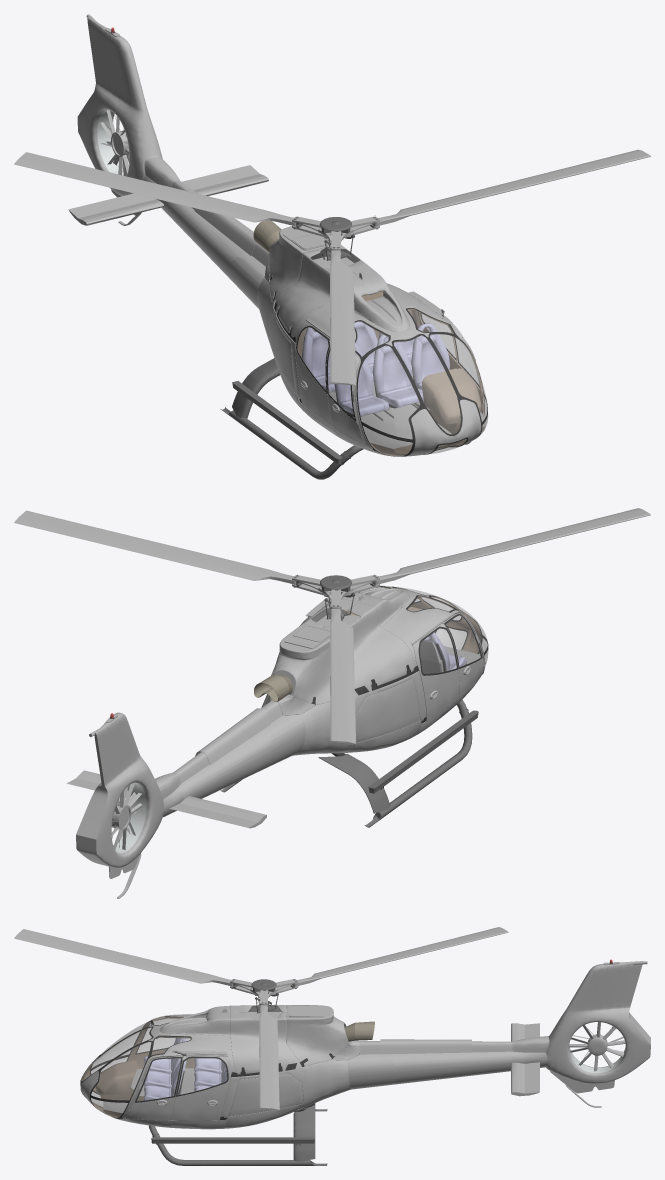
3 renders of one model, top to bottom at view 1: azimuth 30°, elevation 25°; view 2: azimuth 150°, elevation 25°; view 3: azimuth 270°, elevation 25°, orthographic. The views are drawn at different scales.
Visible parts, largest first — view 1: 3DSMeshMatrix (×5); view 2: 3DSMeshMatrix (×6); view 3: 3DSMeshMatrix (×7).
Boxes of the visible parts, left/top/right/bottom form: 3DSMeshMatrix (×5): left=14, top=14, right=650, bottom=479; 3DSMeshMatrix (×6): left=14, top=508, right=650, bottom=898; 3DSMeshMatrix (×7): left=14, top=927, right=650, bottom=1165.
Size of the model in its own units: 300 by 136 by 441.
